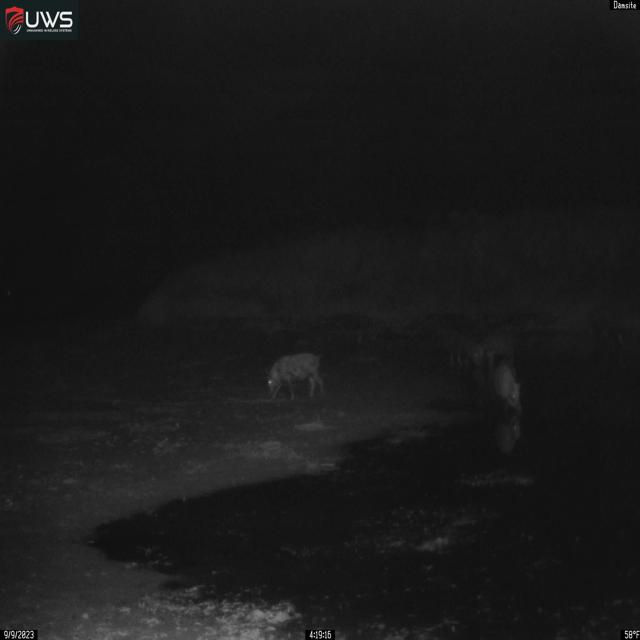pig: (265, 352, 326, 402)
